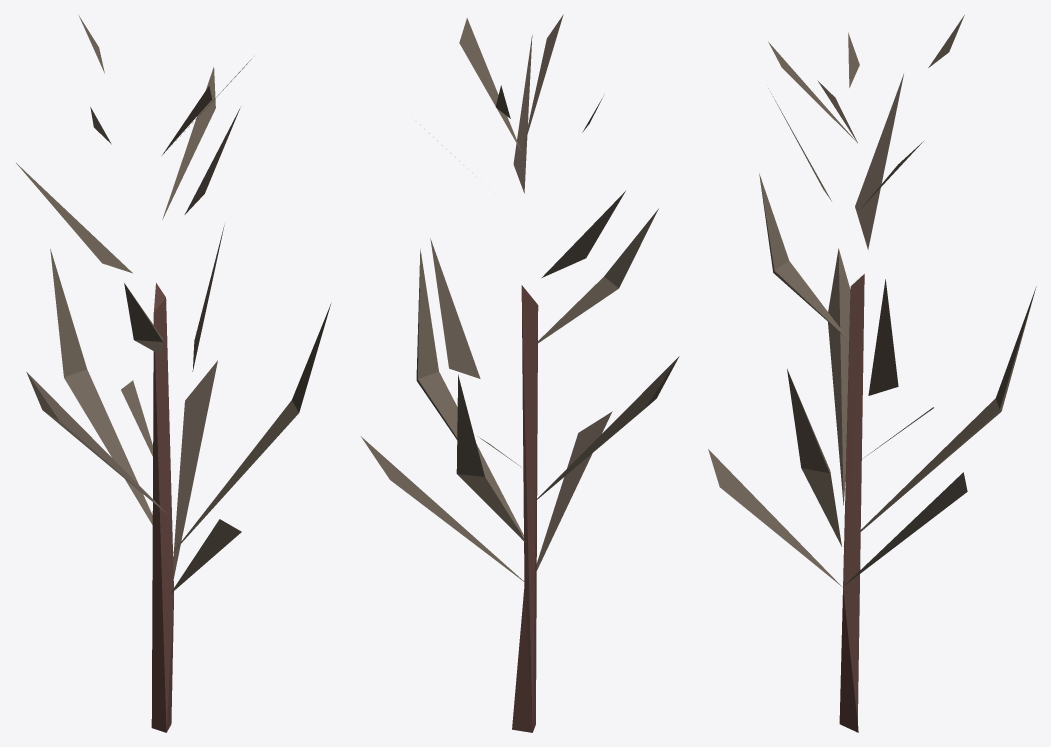
Rendered from Plant_2.lod2.glb.
3 views of the same model, side by side, from view 1: azimuth 30°, elevation 25°; view 2: azimuth 150°, elevation 25°; view 3: azimuth 270°, elevation 25° (orthographic). The views are drawn at different scales.
Parts seen in each view (by area): view 1: Plant_2; view 2: Plant_2; view 3: Plant_2.
Boxes of the visible parts, bbox=[...] form: Plant_2: bbox=[16, 14, 331, 732]; Plant_2: bbox=[361, 14, 679, 732]; Plant_2: bbox=[708, 15, 1036, 732].
Size of the model in its own units: 0.639 by 1.49 by 0.6343.
